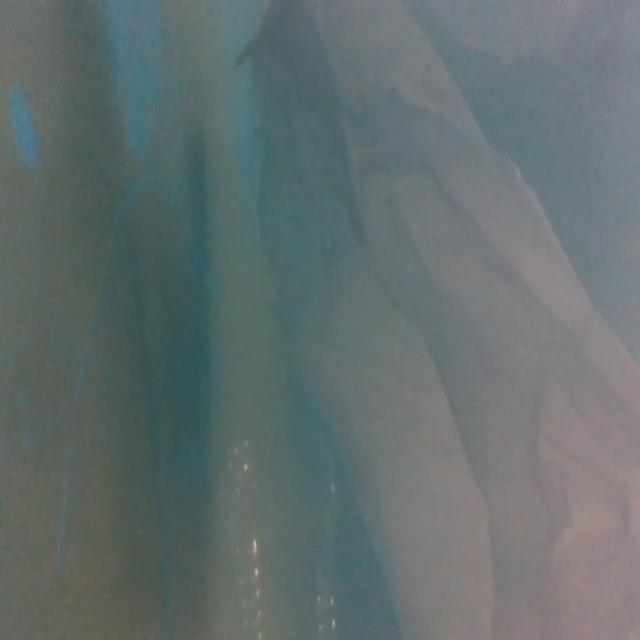plastic bags: (220, 0, 640, 640)
plastic bottle: (176, 392, 354, 640)
